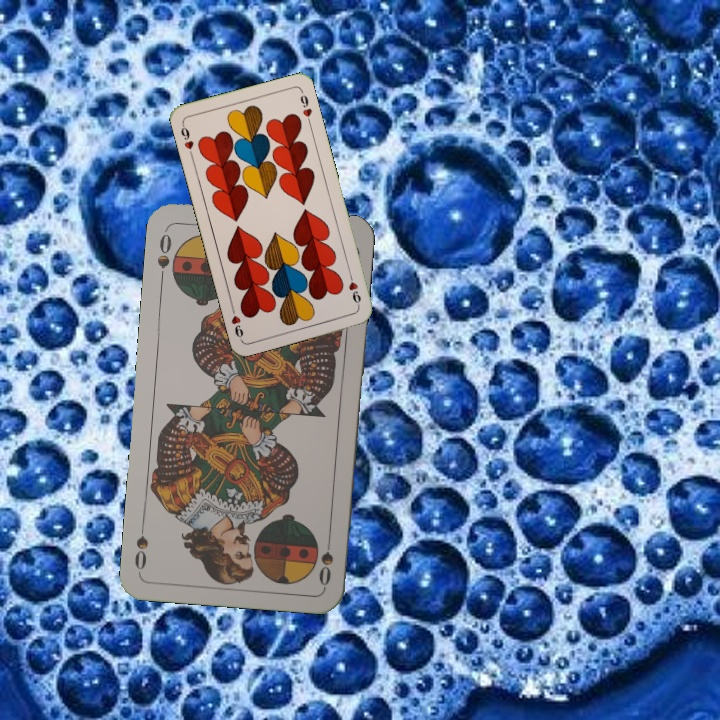H9: (177, 119, 196, 159), (344, 269, 363, 309)
SO: (314, 529, 336, 588), (153, 226, 174, 285)
